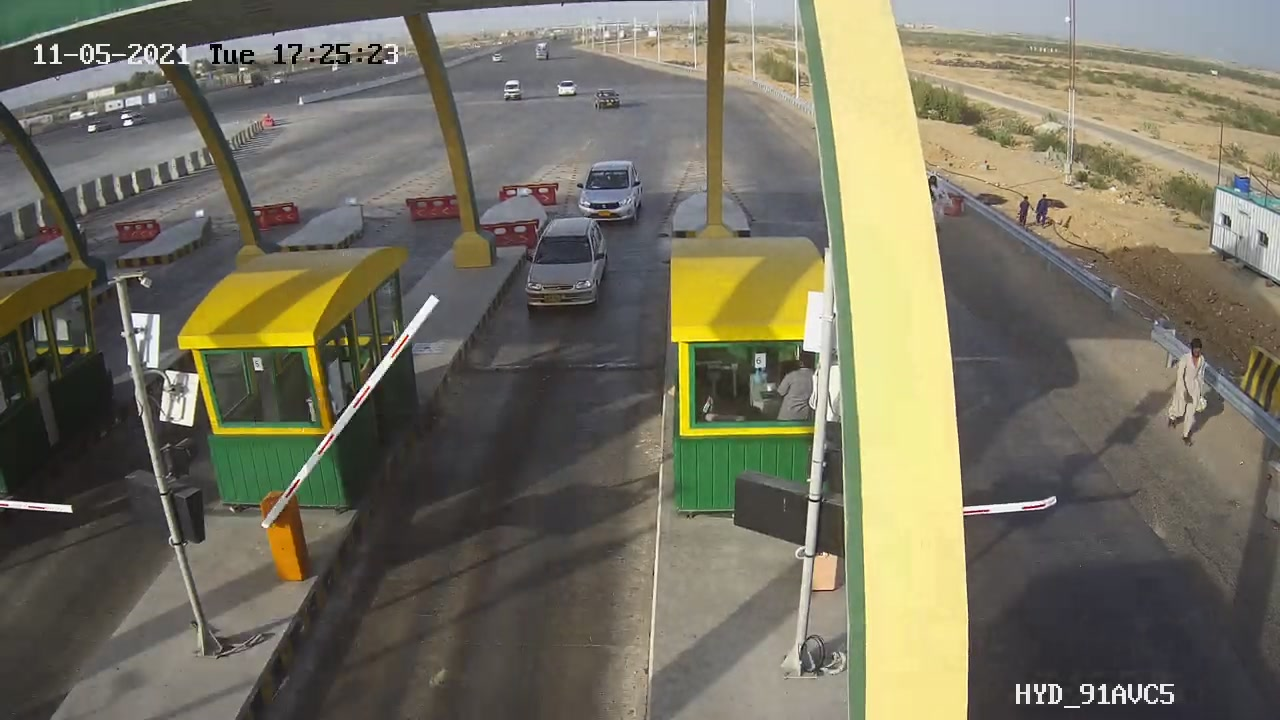F1: (501, 205, 627, 324)
